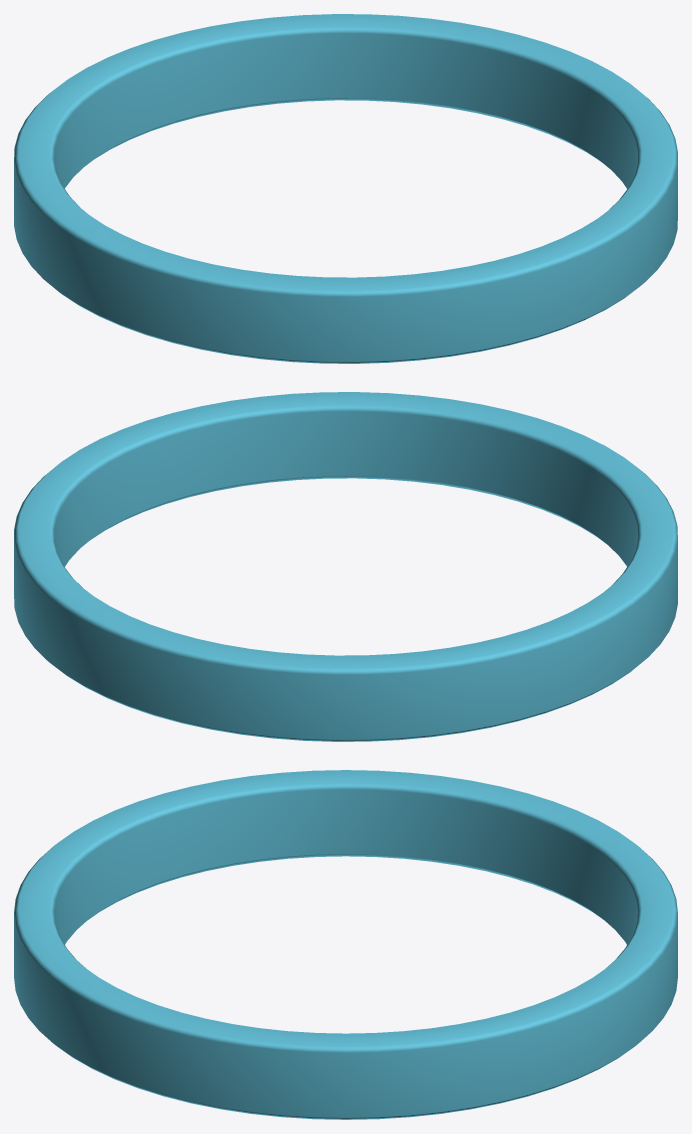
3 views of the same model, one above another, from view 1: azimuth 30°, elevation 25°; view 2: azimuth 150°, elevation 25°; view 3: azimuth 270°, elevation 25° (orthographic).
Parts seen in each view (by area): view 1: seal_body; view 2: seal_body; view 3: seal_body.
Part boxes in pixels (left/top/right/bottom): seal_body: left=14, top=14, right=677, bottom=363; seal_body: left=14, top=392, right=677, bottom=741; seal_body: left=14, top=770, right=677, bottom=1119.
Bounding box in the file's own units: 0.1302 × 0.0159 × 0.1302.
